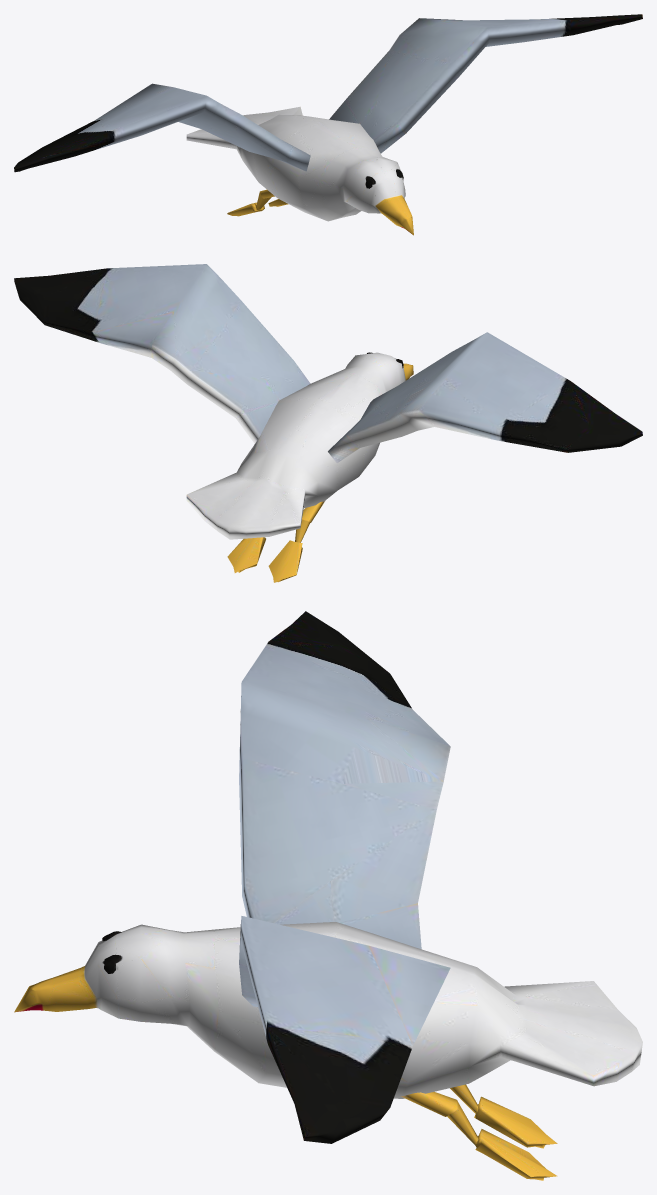
The model's file is gull.glb.
3 views of the same model, one above another, from view 1: azimuth 30°, elevation 25°; view 2: azimuth 150°, elevation 25°; view 3: azimuth 270°, elevation 25° (orthographic). The views are drawn at different scales.
Visible parts, largest first — view 1: geometry_0; view 2: geometry_0; view 3: geometry_0.
Boxes of the visible parts, left/top/right/bottom form: geometry_0: left=14, top=14, right=642, bottom=235; geometry_0: left=14, top=264, right=642, bottom=582; geometry_0: left=14, top=611, right=642, bottom=1180.
Bounding box in the file's own units: 1 × 0.3269 × 0.5089.
Materials: 1 (1 with a texture image).
